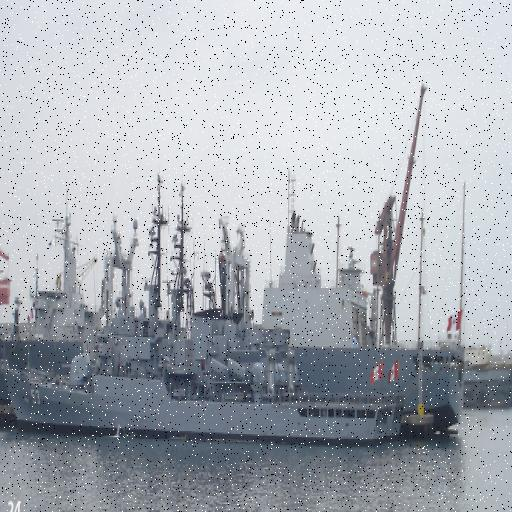Fragata: (1, 207, 409, 452)
